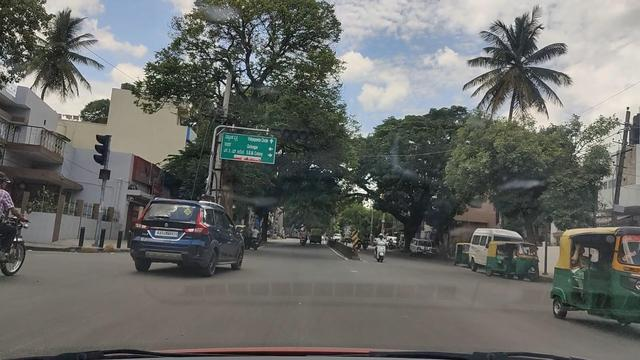LMV: (123, 205, 248, 277)
